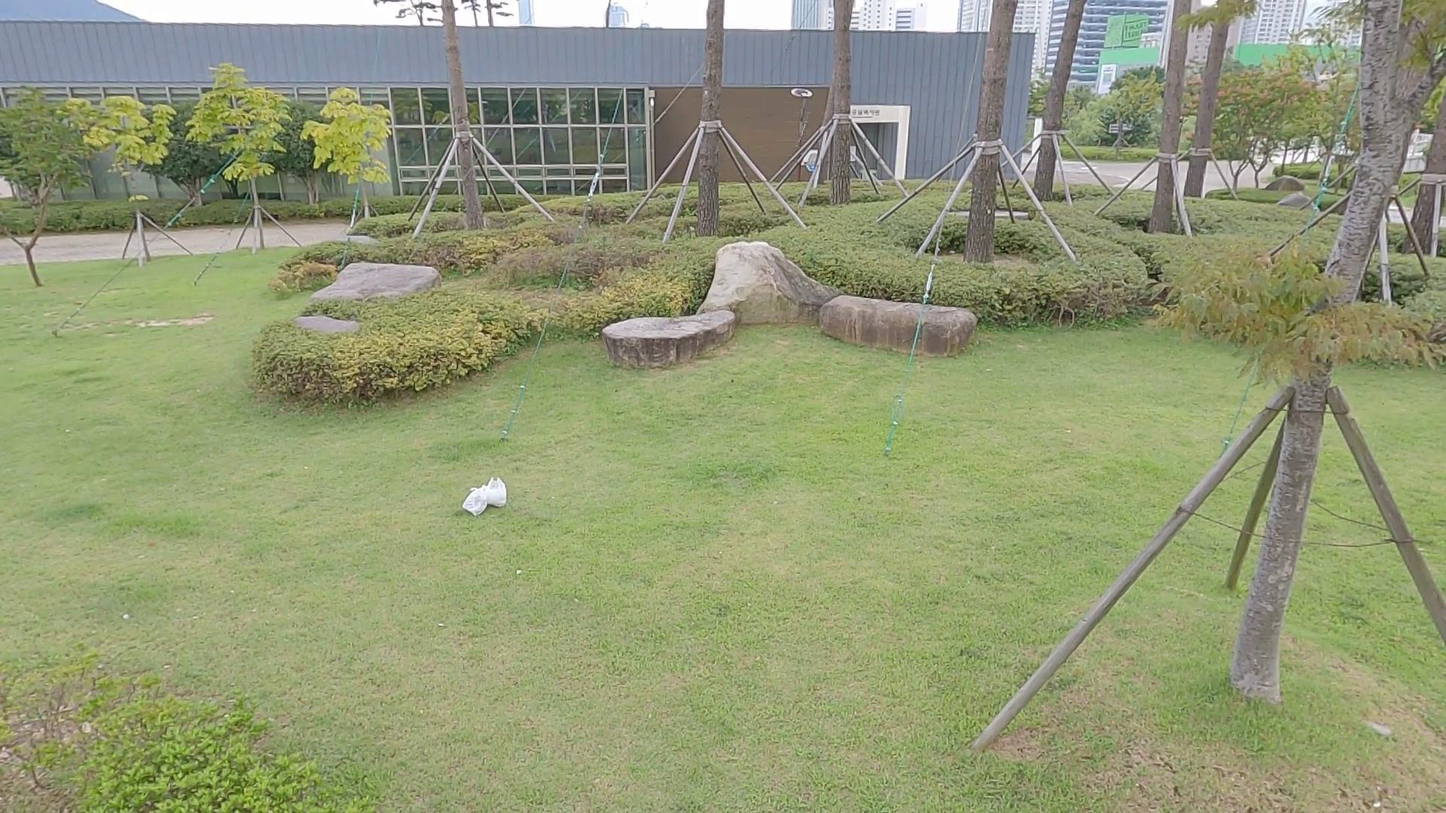trash: (462, 481, 490, 518), (485, 476, 508, 509)
